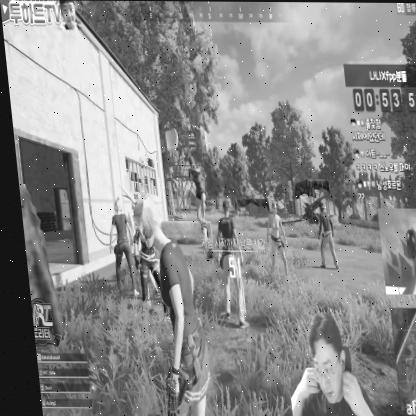streamer: (275, 309, 367, 416)
